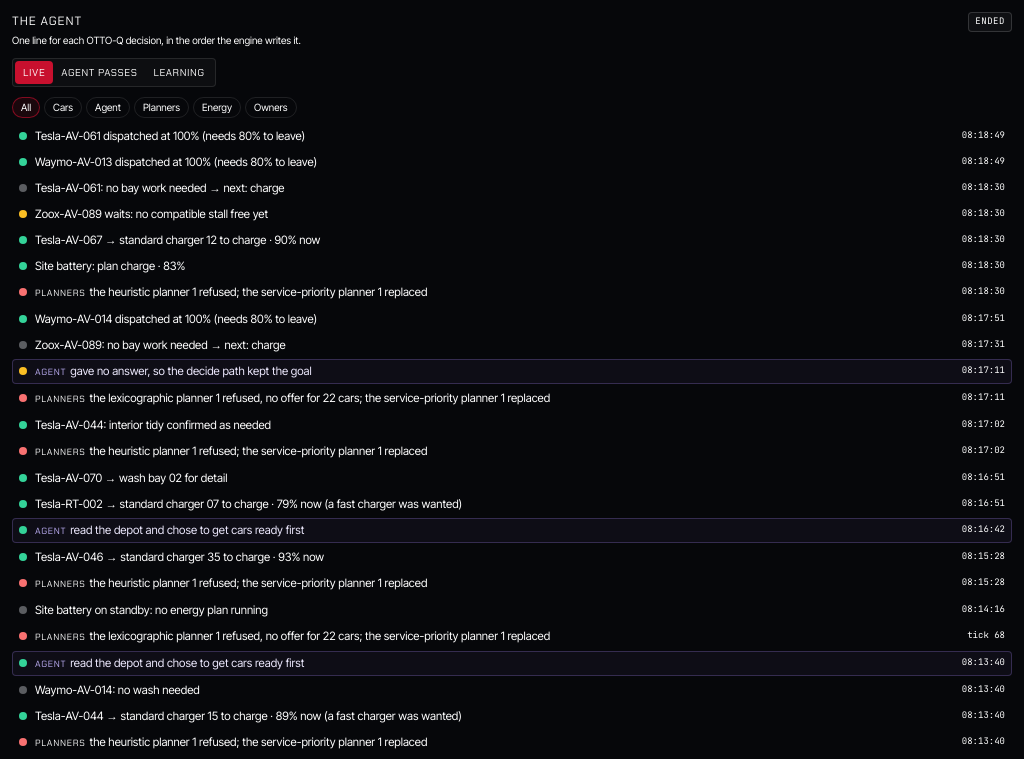
Test case: Agent tab › opens on the live stream: one line per decision, saying where each car goes
Expected: the text "Tesla-AV-067 → standard charger 12 to charge · 90% now" is shown, [35,233,320,247]
Expected: the text "Tesla-AV-061 dispatched at 100% (needs 80% to leave)" is shown, [35,129,305,143]
Step 1. Click the button "Agent" → (108, 108), box [86,97,130,118]
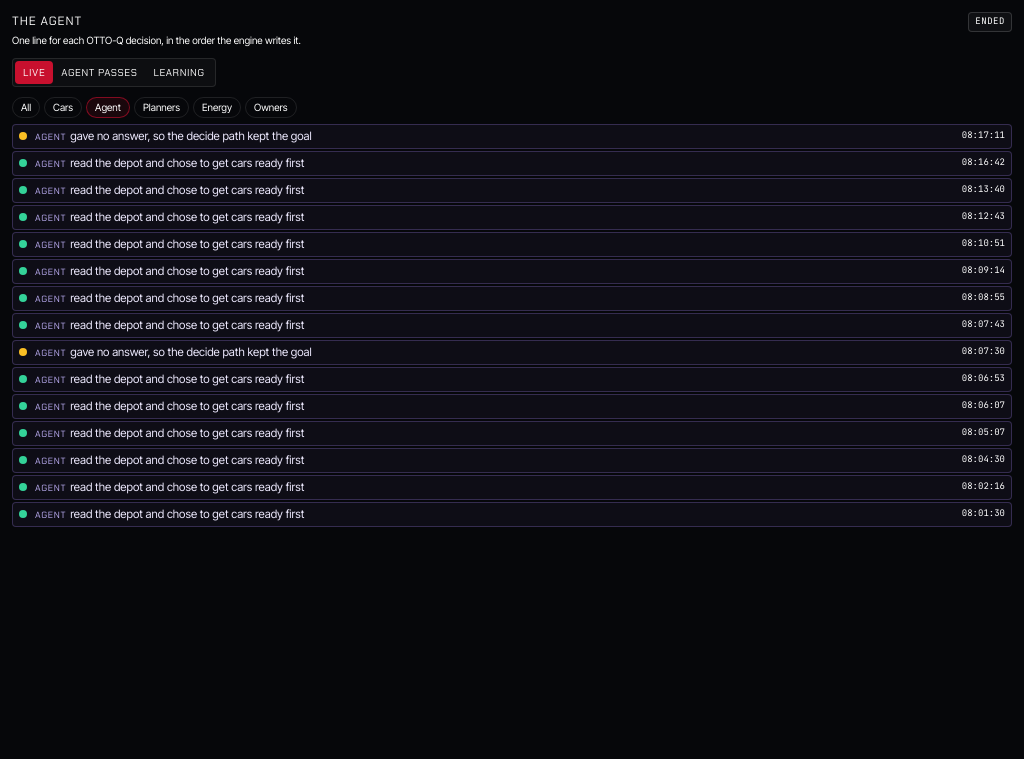
Expected: the 1st text "read the depot and chose to get cars ready first" is shown, [70,156,304,170]
Result: the button "→ standard charger" is gone
